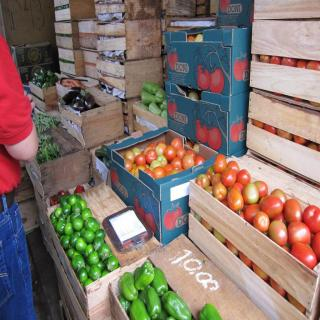Tomato: (194, 153, 320, 270), (123, 137, 207, 181), (302, 206, 320, 234)
